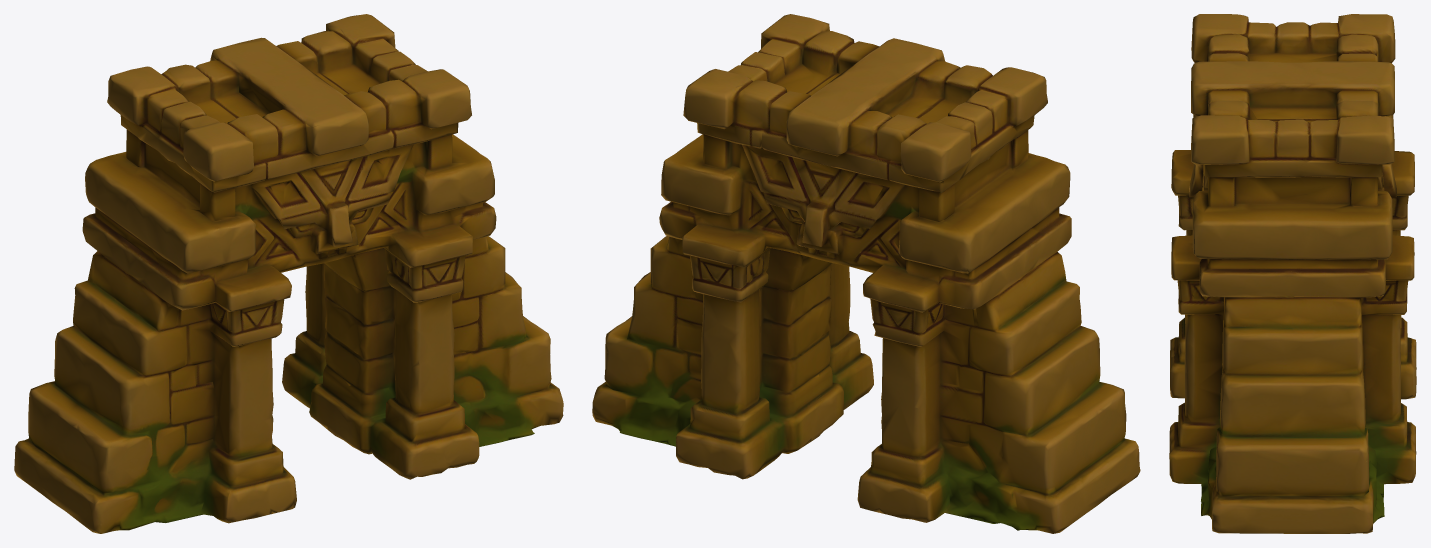
Rendered from gate.glb.
3 renders of one model, left to right at view 1: azimuth 30°, elevation 25°; view 2: azimuth 150°, elevation 25°; view 3: azimuth 270°, elevation 25°, orthographic. The views are drawn at different scales.
Parts seen in each view (by area): view 1: gate_mesh; view 2: gate_mesh; view 3: gate_mesh.
Part boxes in pixels (box(x1,y1,x2,y2)): gate_mesh: box(14, 14, 563, 533); gate_mesh: box(592, 14, 1140, 533); gate_mesh: box(1169, 14, 1416, 533).
Bounding box in the file's own units: 1 × 0.7494 × 0.4761.
Materials: 1 (1 with a texture image).
